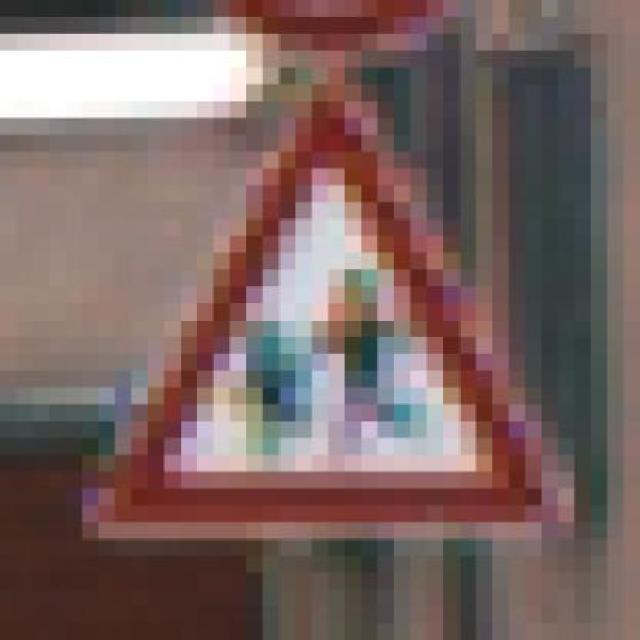Beware of children: (66, 84, 592, 556)
